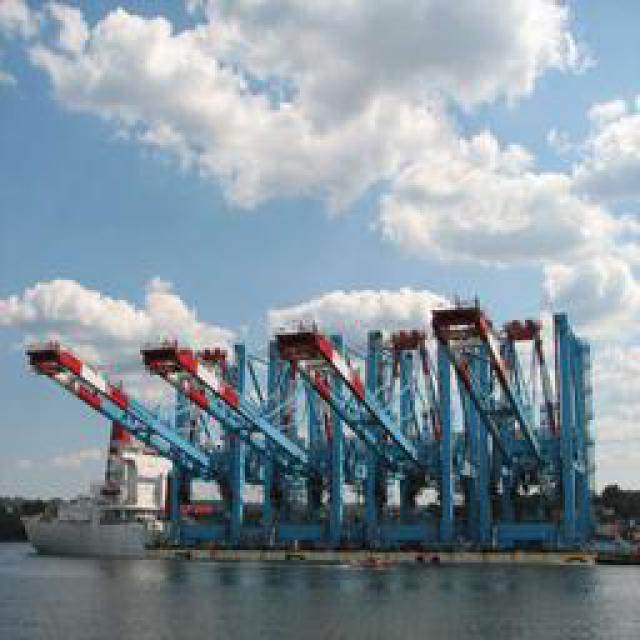Ship: (18, 417, 176, 557)
